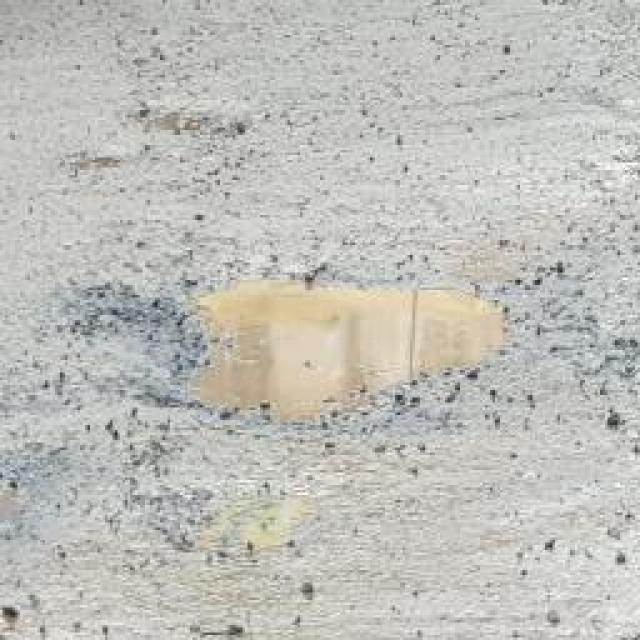stagnation: (192, 266, 534, 419)
